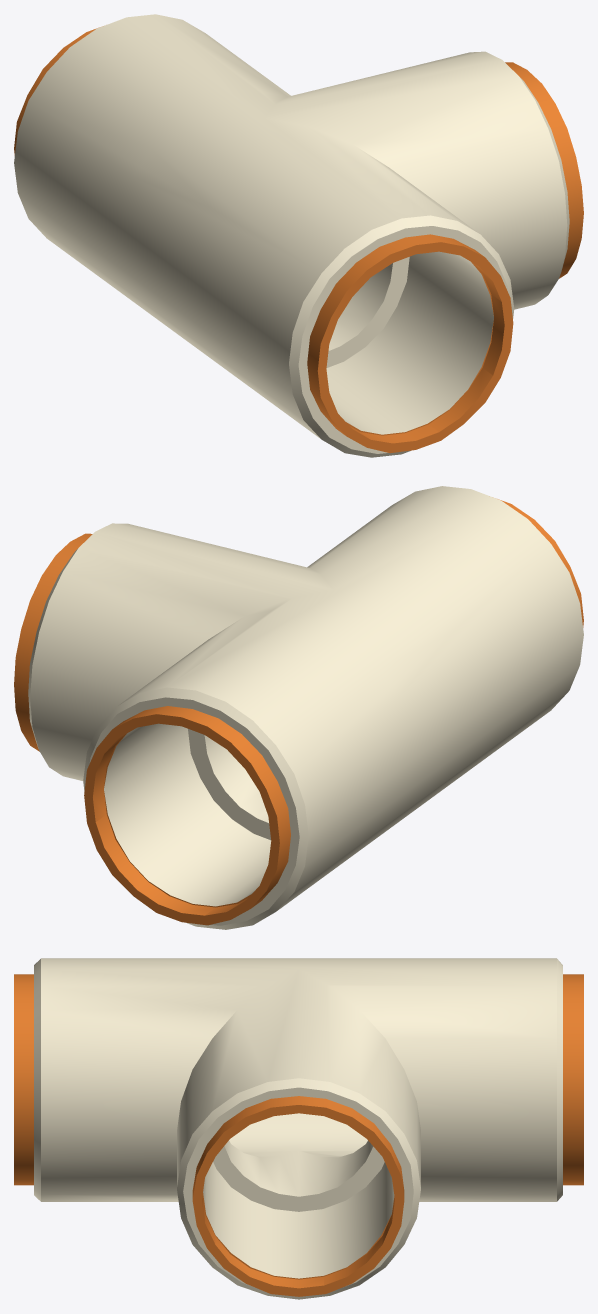
File: pipes_supply__water_heater-closet_electric_tank+closet_gas_tank_and_plumbing-cpvc.glb
3 renders of one model, top to bottom at view 1: azimuth 30°, elevation 25°; view 2: azimuth 150°, elevation 25°; view 3: azimuth 270°, elevation 25°, orthographic. The views are drawn at different scales.
Parts seen in each view (by area): view 1: fit_tee_pipe_supply_hot_wh_closet; view 2: fit_tee_pipe_supply_hot_wh_closet; view 3: fit_tee_pipe_supply_hot_wh_closet.
Boxes of the visible parts, bbox=[...] form: fit_tee_pipe_supply_hot_wh_closet: bbox=[14, 14, 583, 457]; fit_tee_pipe_supply_hot_wh_closet: bbox=[14, 486, 583, 929]; fit_tee_pipe_supply_hot_wh_closet: bbox=[14, 958, 583, 1299].
Size of the model in its own units: 0.0476 by 0.0286 by 0.0667.
